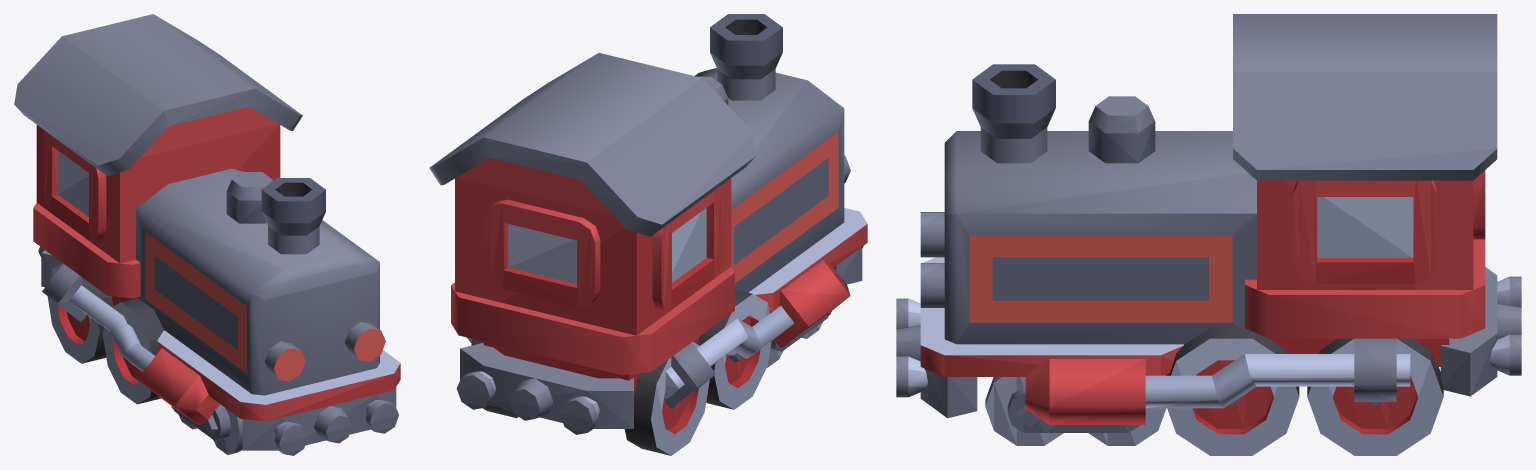
The picture shows the model from 3 angles, left to right: view 1: azimuth 30°, elevation 25°; view 2: azimuth 150°, elevation 25°; view 3: azimuth 270°, elevation 25°; orthographic projection. The views are drawn at different scales.
Parts seen in each view (by area): view 1: Scene, wheel_2, wheel_3, wheels-front; view 2: Scene, wheel_3, wheel_2, wheels-front; view 3: Scene, wheel, wheel_1, wheels-front.
Boxes of the visible parts, x1,y1,x2,y2 form: Scene: (14,14,400,455); wheel_2: (102,298,164,404); wheel_3: (47,263,113,363); wheels-front: (171,404,242,454); Scene: (429,14,867,434); wheel_3: (624,341,709,455); wheel_2: (698,289,771,409); wheels-front: (767,311,831,367); Scene: (896,14,1521,424); wheel: (1165,327,1299,455); wheel_1: (1307,338,1443,455); wheels-front: (985,377,1166,445).
Size of the model in its own units: 2.97 by 3.75 by 5.88.
